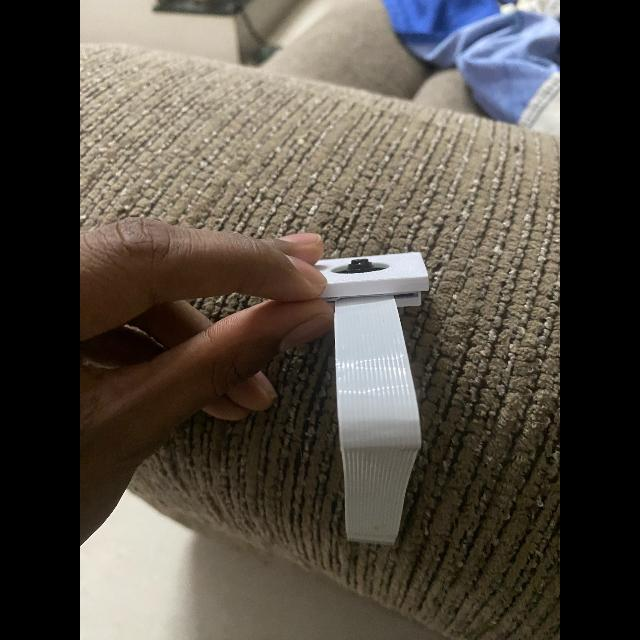RASPBERY PI CAM ENCLOSURE: (314, 252, 430, 308)
